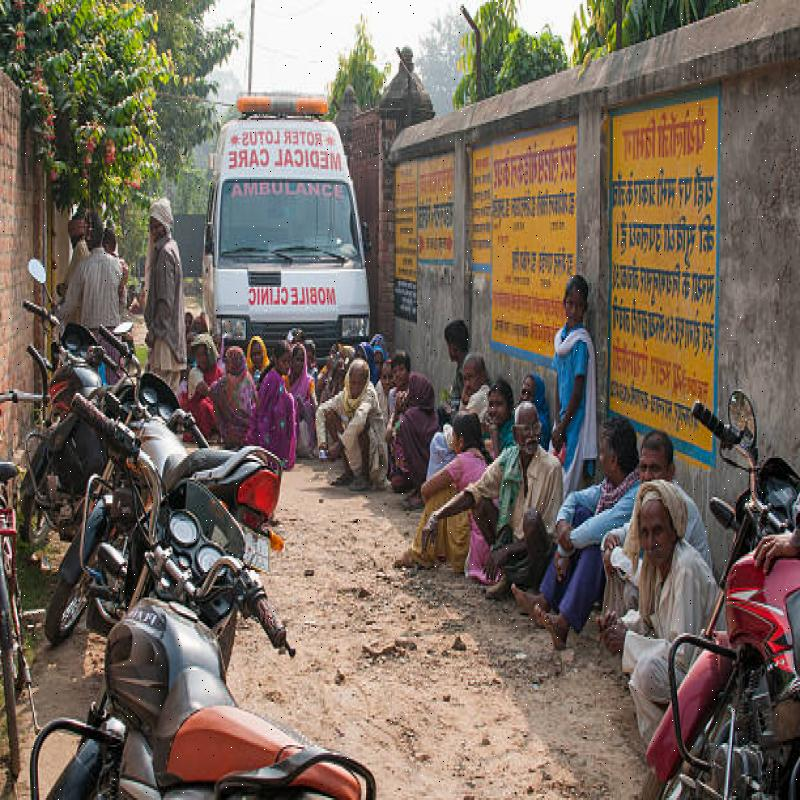ambulance: (204, 83, 366, 338)
